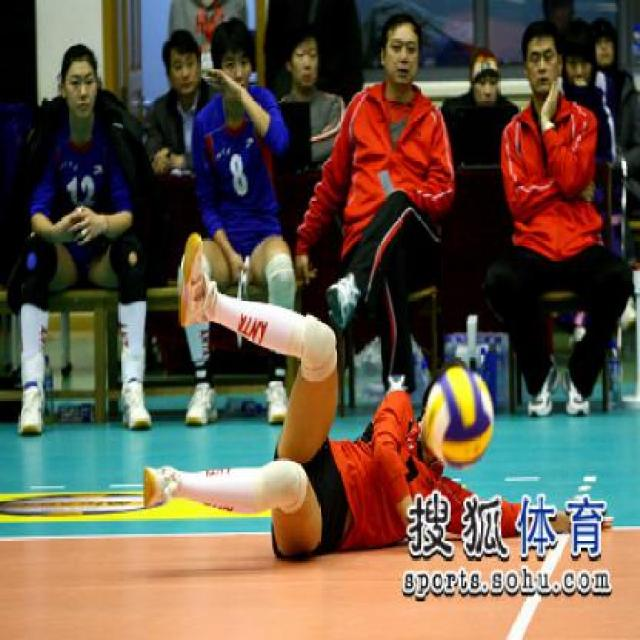fall: (148, 216, 564, 562)
